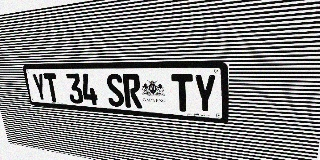3: (66, 73, 84, 104)
4: (80, 73, 98, 105)
R: (122, 74, 142, 108)
S: (105, 74, 125, 107)
T: (171, 74, 193, 112), (43, 73, 61, 102)
Y: (193, 74, 216, 114), (31, 73, 48, 101)
